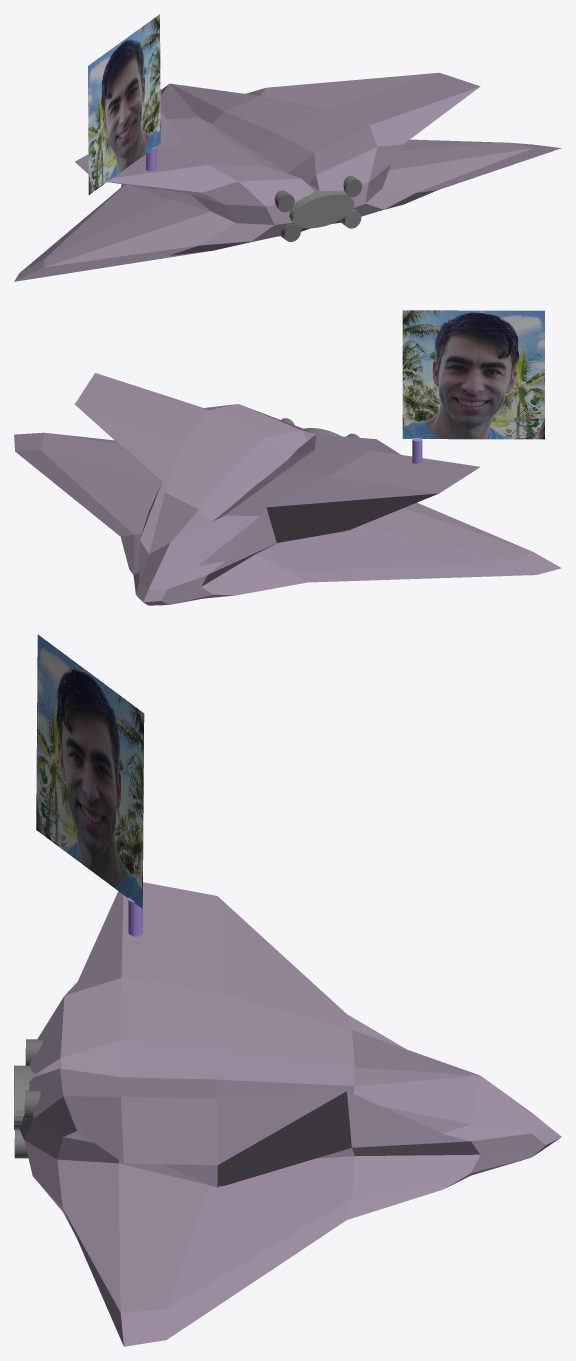
File: Player.gltf
3 views of the same model, one above another, from view 1: azimuth 30°, elevation 25°; view 2: azimuth 150°, elevation 25°; view 3: azimuth 270°, elevation 25° (orthographic). The views are drawn at different scales.
Parts seen in each view (by area): view 1: Cube, Plane, Cylinder, Cylinder.001; view 2: Cube, Plane; view 3: Cube, Plane, Cylinder.
Part boxes in pixels (bbox=[...]): Cube: bbox=[14, 72, 561, 281]; Plane: bbox=[88, 14, 160, 194]; Cylinder: bbox=[289, 184, 354, 228]; Cylinder.001: bbox=[274, 190, 294, 212]; Cube: bbox=[14, 373, 561, 605]; Plane: bbox=[402, 310, 544, 439]; Cube: bbox=[19, 882, 561, 1346]; Plane: bbox=[36, 634, 144, 908]; Cylinder: bbox=[14, 1065, 41, 1130].
Bounding box in the file's own units: 1.33 × 0.5459 × 0.7623.
8 materials, 1 textured.
